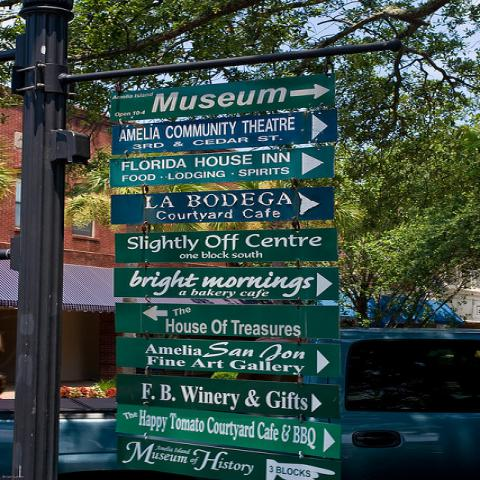car: (339, 328, 479, 480)
